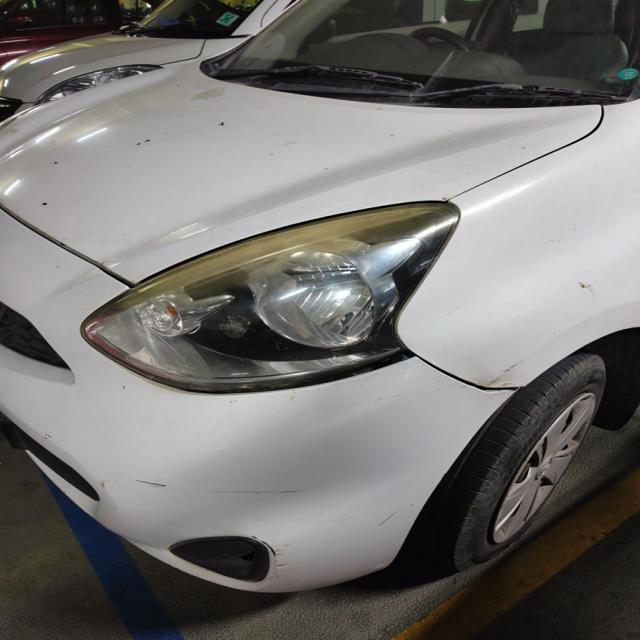scratch: (198, 478, 324, 515), (236, 532, 294, 594), (480, 358, 530, 396), (566, 272, 610, 308), (368, 502, 424, 528), (127, 472, 181, 498), (434, 298, 481, 320)
